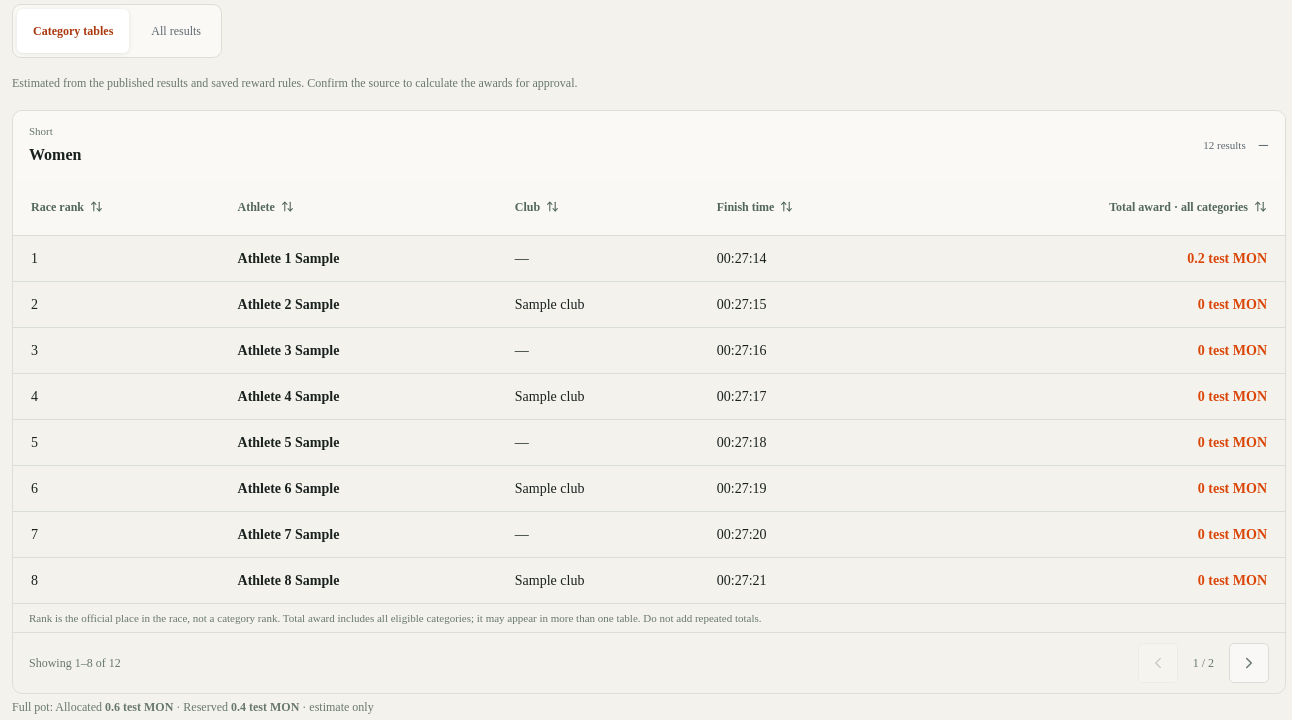
Scenario: paginates category tables independently and resets them when shared filters change
(page scrolled)
Click the button named "Next results · Short · Women": point(1249, 663) [1229,643,1269,683]
(page scrolled)
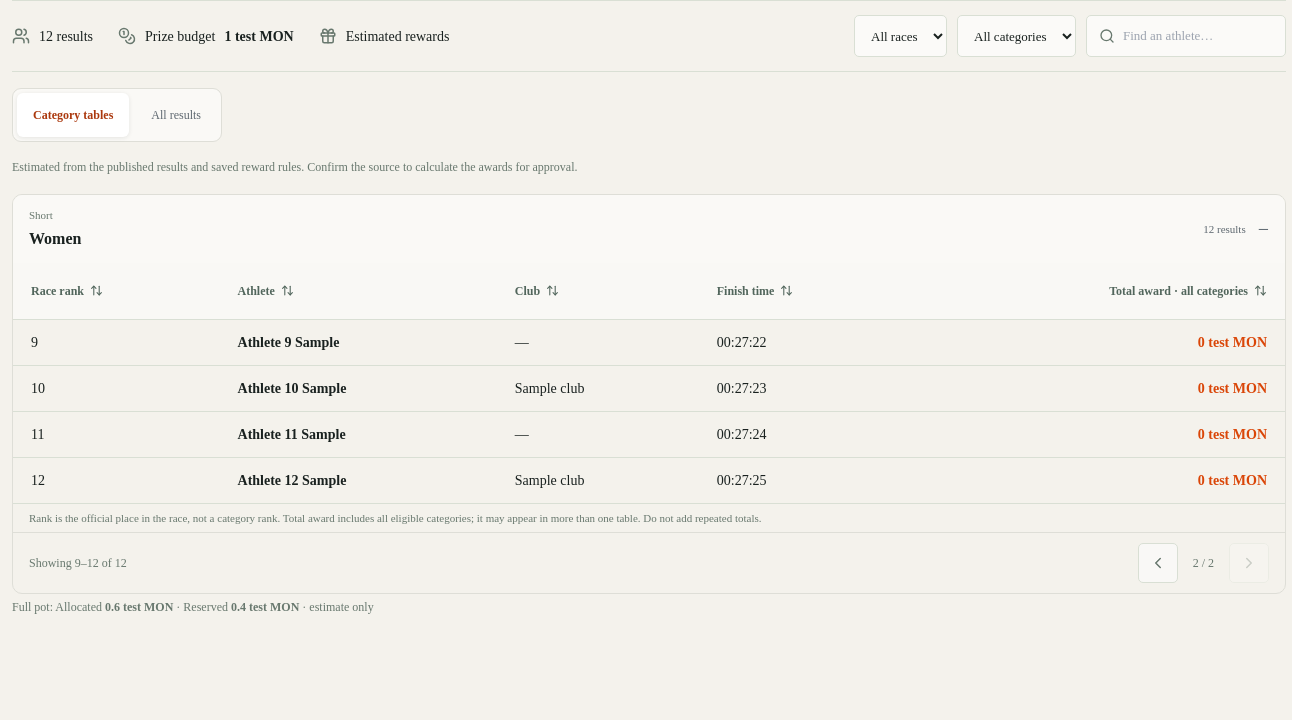
Expected: the column heading "Athlete 12 Sample" is shown, [220,457,497,503]
In the field labelled "Find an athlete": point(1198, 36) [1123,26,1273,46], type "Athlete 1 Sample"
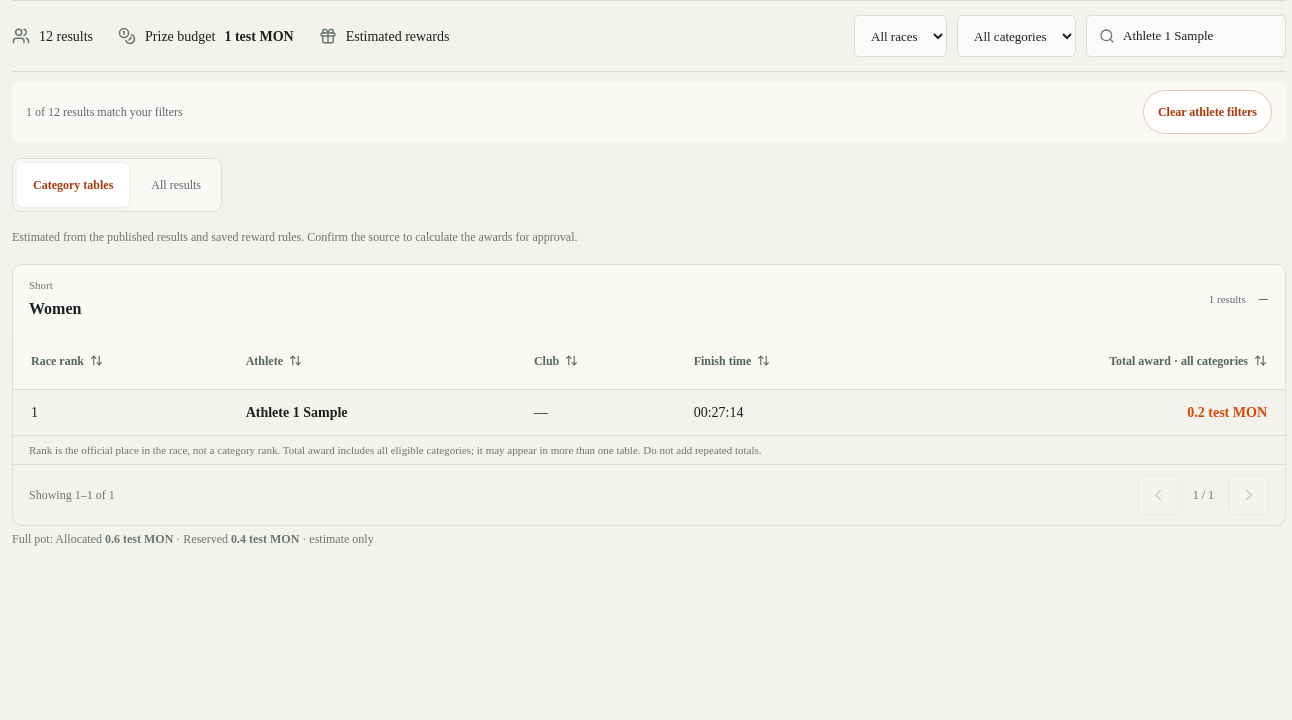
Expected: the button named "Previous results · Short · Women" is disabled, [1138,475,1178,515]
Expected: the text "Showing 1–1 of 1" is shown, [29,486,115,504]
